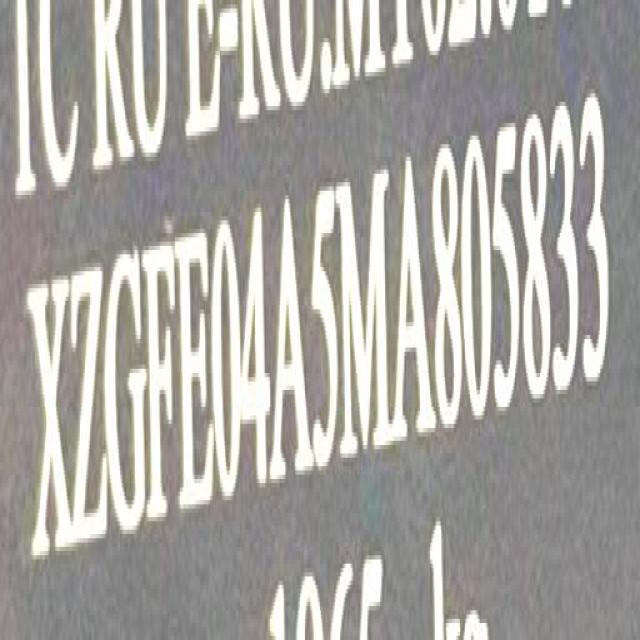0: (211, 222, 244, 494), (463, 130, 490, 427)
3: (582, 88, 614, 391), (551, 98, 579, 400)
4: (241, 202, 274, 486)
5: (310, 177, 341, 475), (494, 116, 521, 417)
8: (432, 140, 464, 436), (521, 110, 552, 404)
A: (395, 147, 434, 447), (272, 192, 309, 488)
E: (179, 221, 215, 518)
F: (143, 242, 180, 528)
G: (104, 248, 146, 544)
M: (340, 173, 391, 469)
X: (32, 267, 73, 563)
Z: (69, 264, 104, 555)
